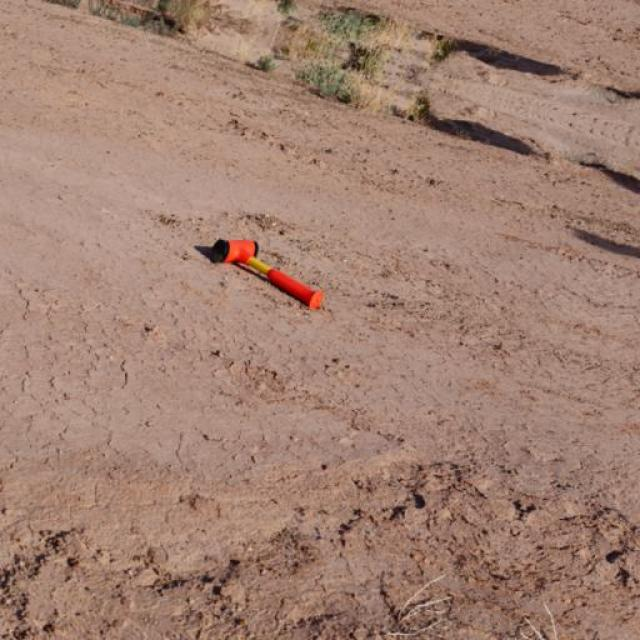mallet: (192, 235, 324, 310)
